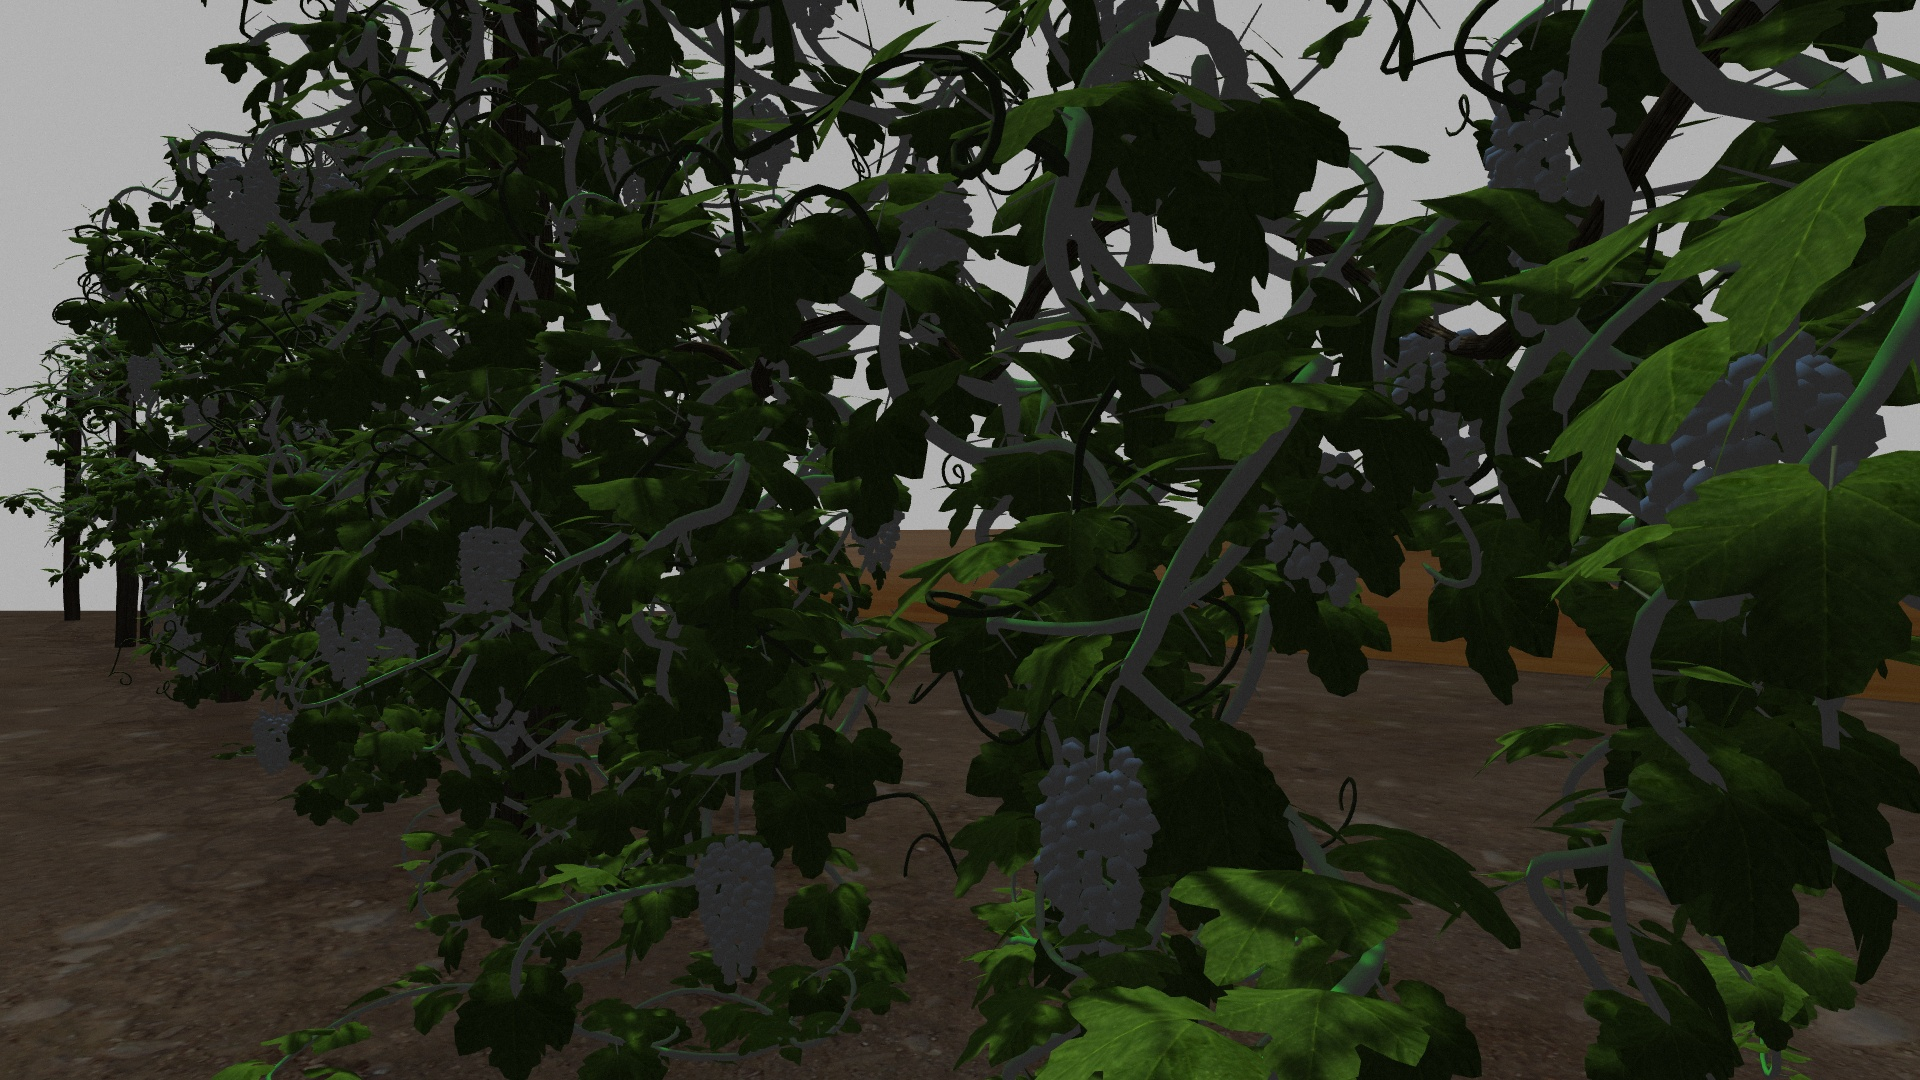grape: (1651, 356, 1887, 517), (1035, 733, 1159, 940), (688, 837, 787, 988), (1487, 74, 1585, 206), (202, 156, 285, 253), (313, 597, 385, 688), (458, 525, 524, 612), (1393, 331, 1451, 423), (910, 187, 973, 270), (251, 715, 295, 775), (125, 349, 164, 400)
